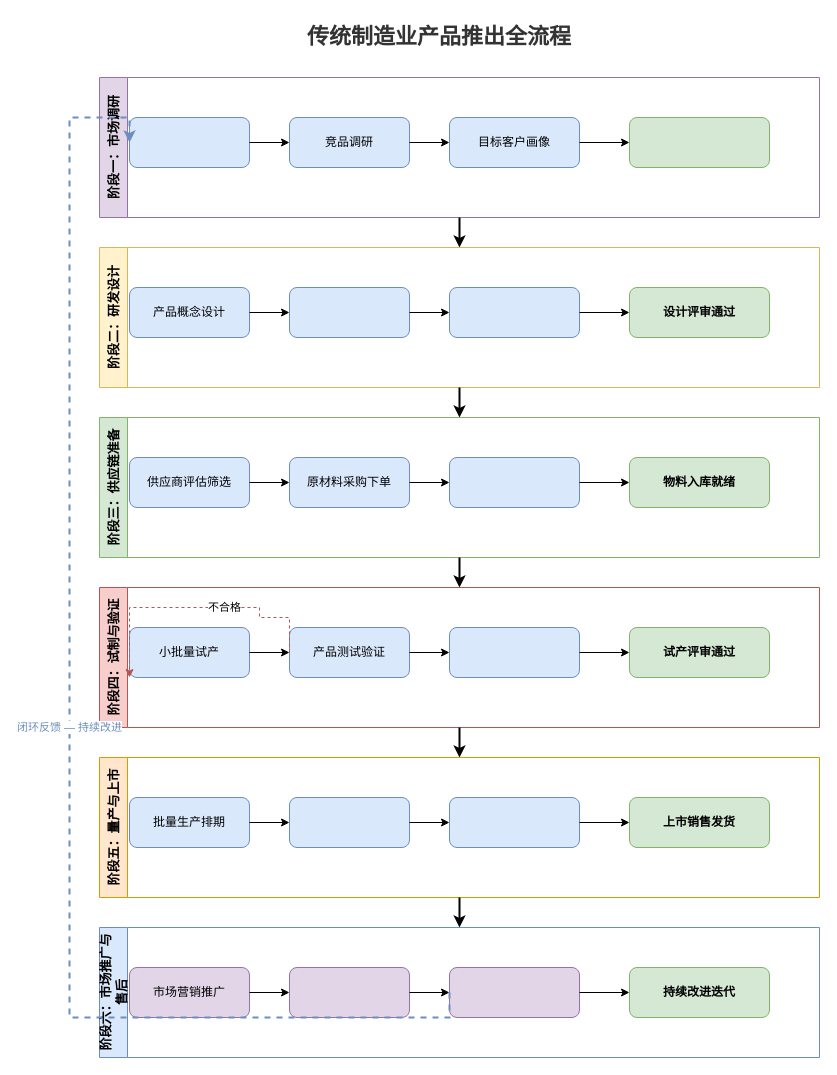
Image size: 837x1075. Some labels were removed from this diagram. The shapes that lost their labels are listed below. From the top down, each one's centre as x and y in pixels, then its label:
At (x=189, y=142): "市场需求分析".
At (x=699, y=142): "可行性分析报告".
At (x=349, y=312): "工程技术图纸".
At (x=514, y=312): "BOM清单编制".
At (x=514, y=482): "来料检验IQC".
At (x=514, y=652): "工艺参数优化".
At (x=349, y=822): "生产质量控制".
At (x=514, y=822): "包装与入库".
At (x=349, y=992): "经销商铺货".
At (x=514, y=992): "客户反馈收集".
